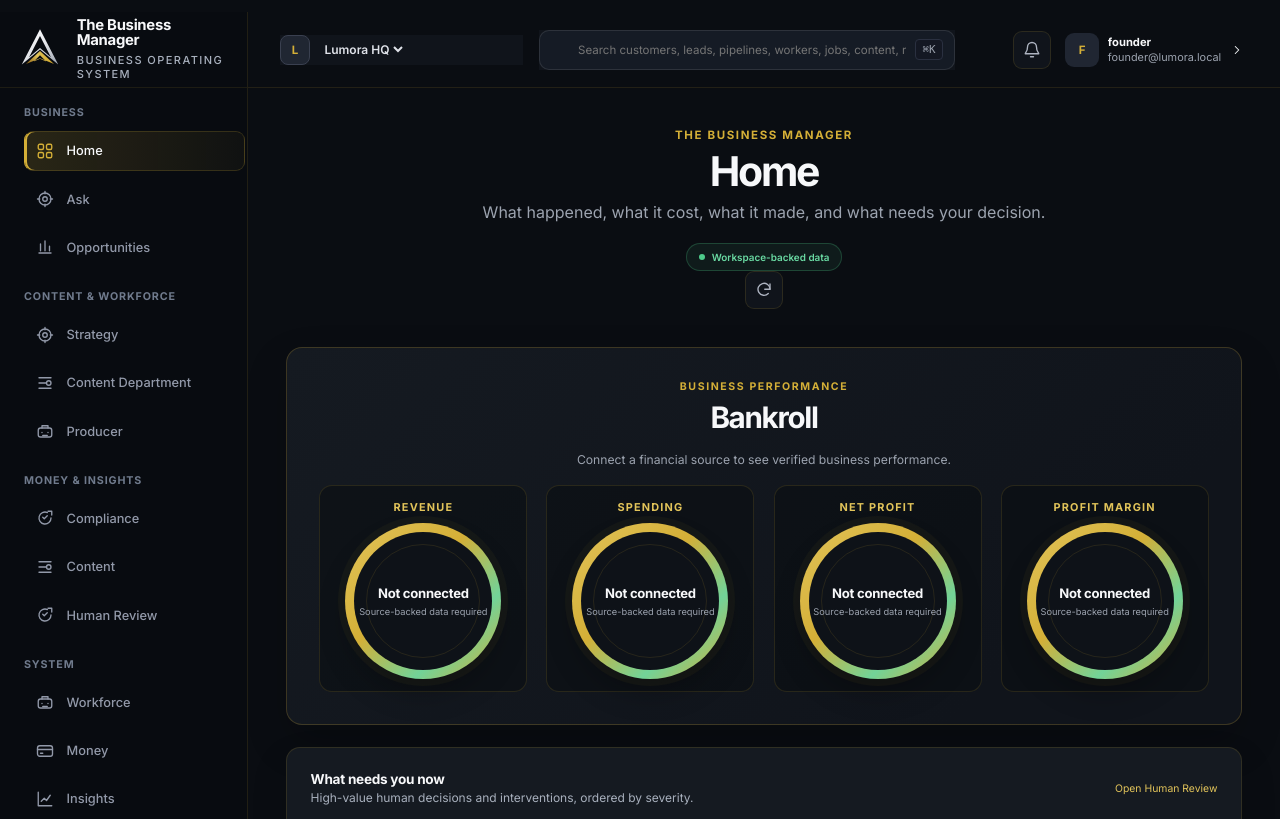
Test case: dashboard navigation smoke test › ignores a late response from a route that is no longer active
Expected: the heading "Home" is shown, [710, 146, 818, 196]
Click the button "Content". click: coordinates (135, 567)
box: [24, 547, 245, 587]
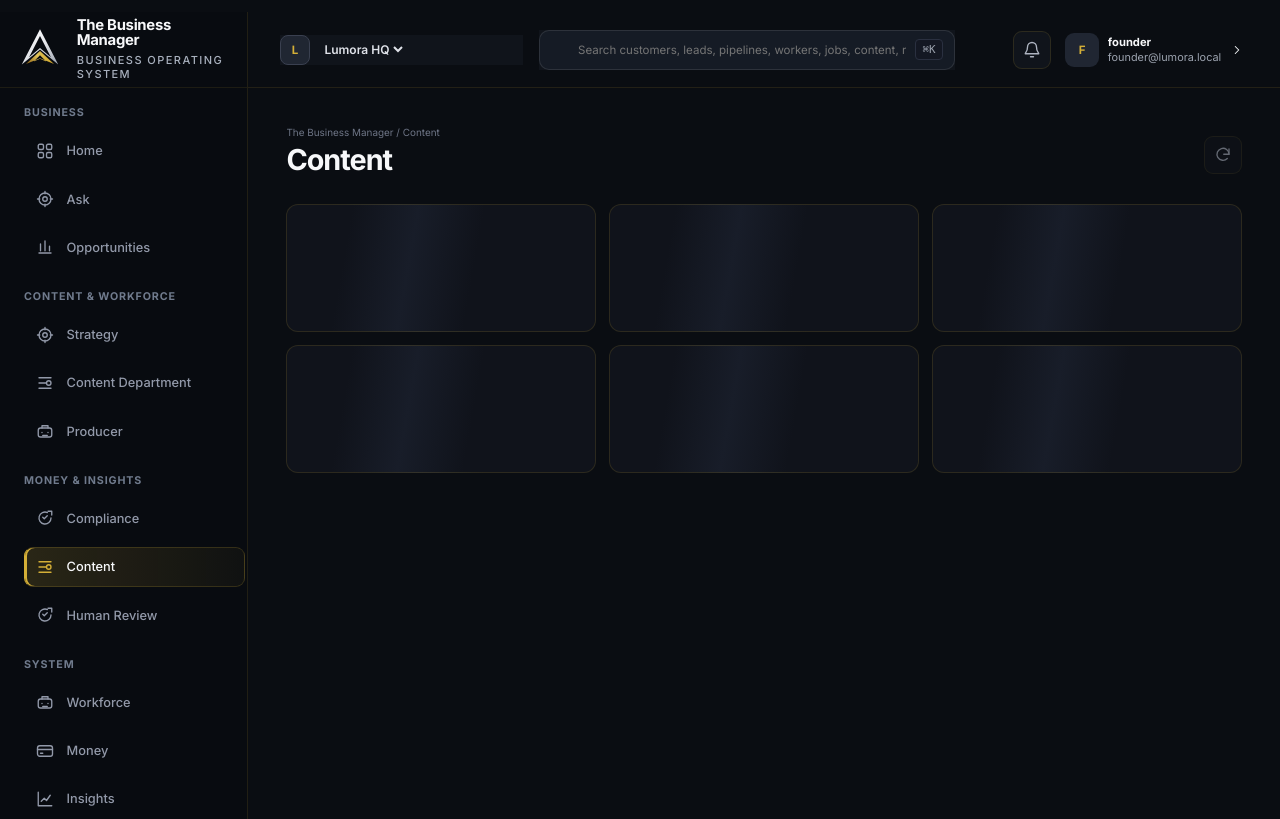
Click the button "Workforce". click: coordinates (135, 702)
box: [24, 682, 245, 722]
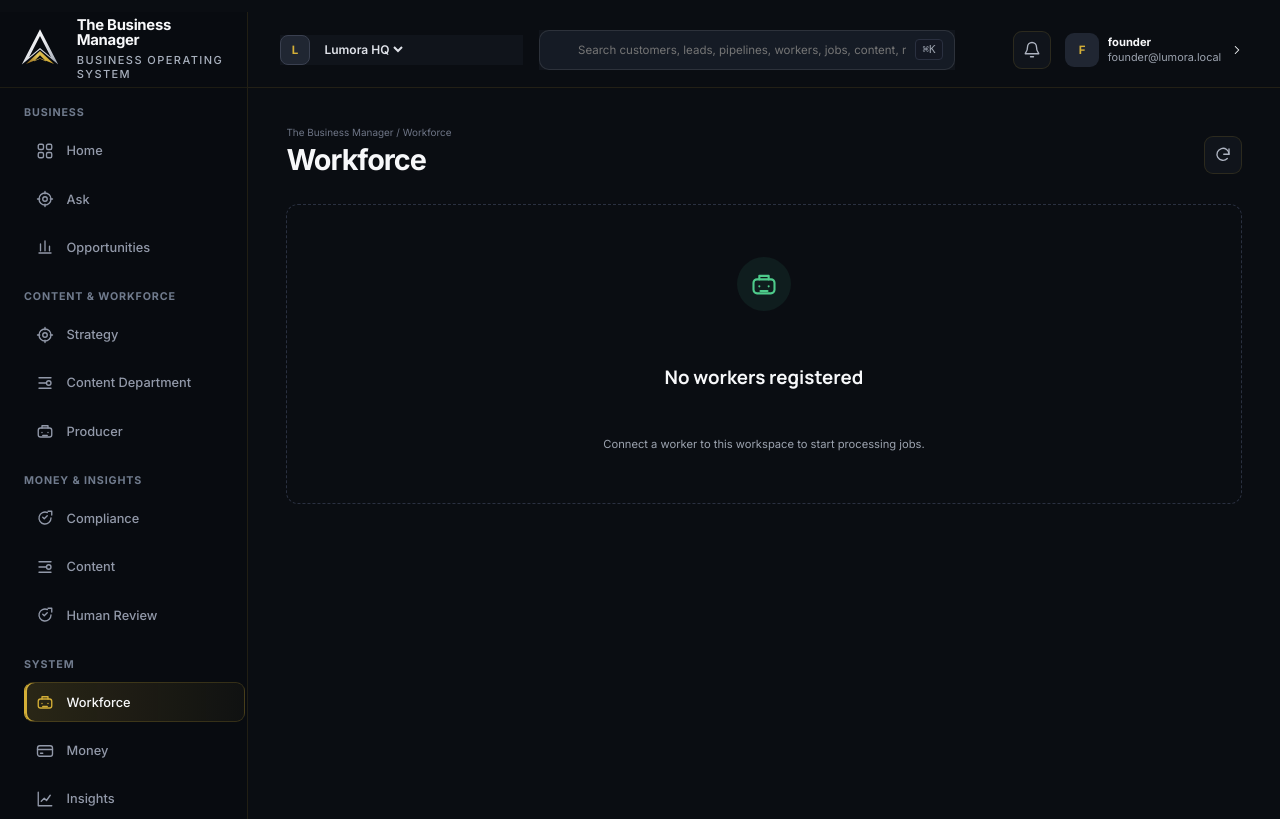
Now the heading "No workers registered" is shown, box [665, 364, 863, 390]
